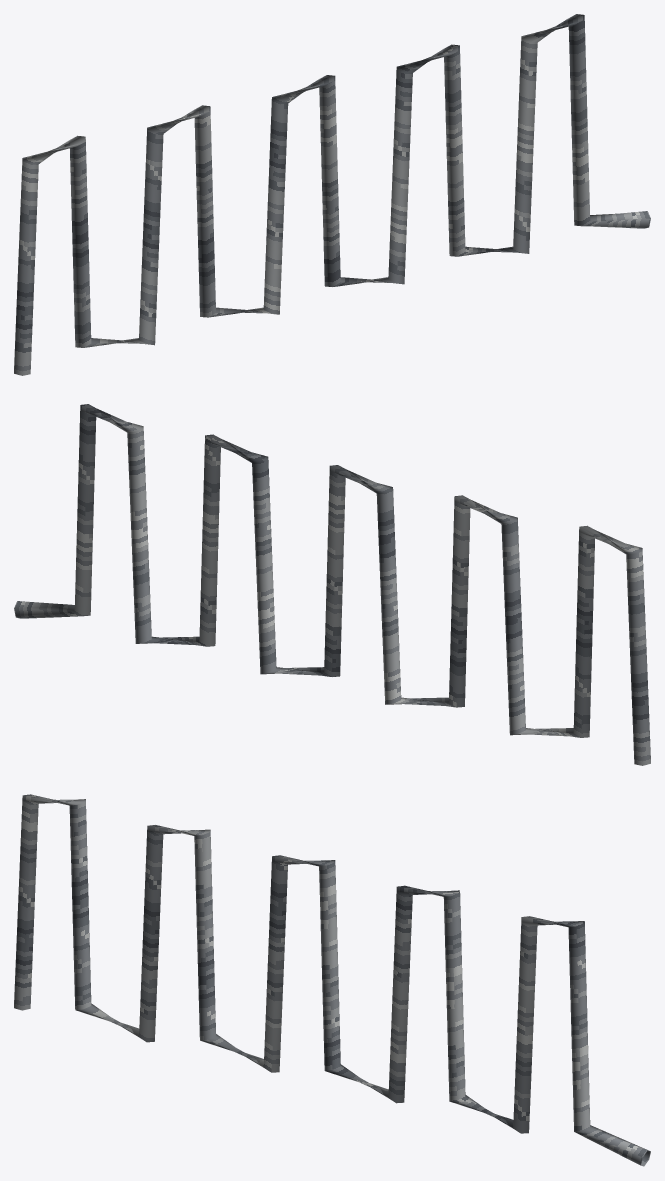
File: SP_BikeRack.obj
The picture shows the model from 3 angles, top to bottom: view 1: azimuth 30°, elevation 25°; view 2: azimuth 150°, elevation 25°; view 3: azimuth 330°, elevation 25°; orthographic projection.
Parts seen in each view (by area): view 1: SP_BikeRack; view 2: SP_BikeRack; view 3: SP_BikeRack.
Boxes of the visible parts, box(x1,y1,x2,y2) form: SP_BikeRack: box(14, 14, 650, 375); SP_BikeRack: box(14, 404, 650, 765); SP_BikeRack: box(14, 794, 650, 1166).
Size of the model in its own units: 2.29 by 0.7875 by 0.052.
Materials: 1 (1 with a texture image).
